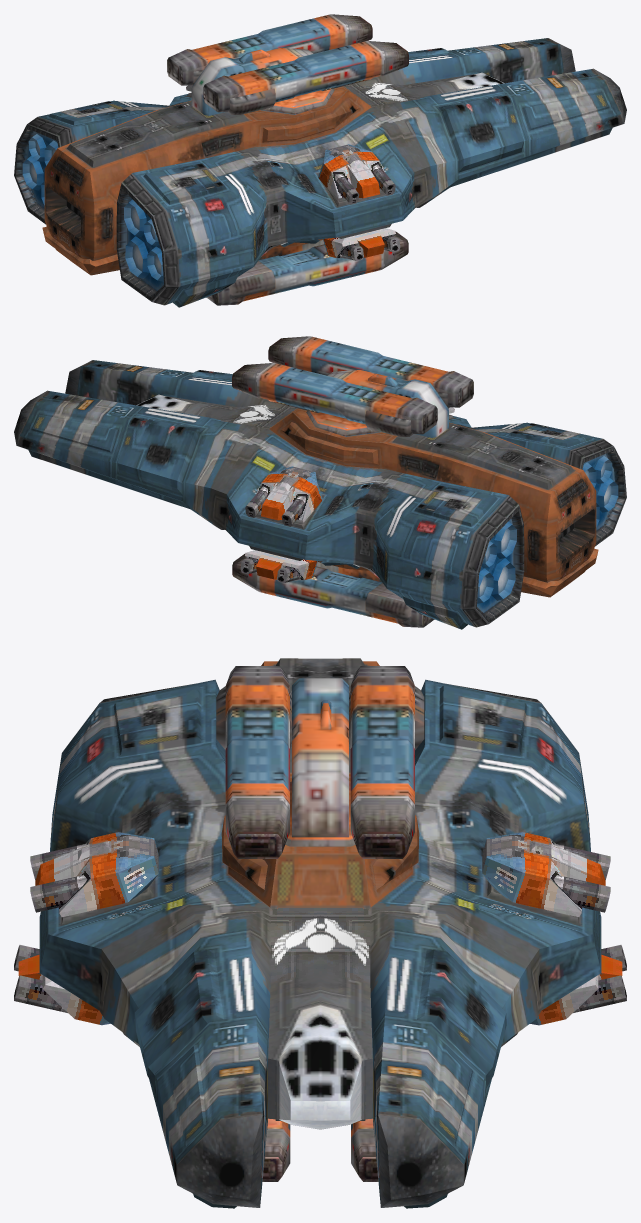
File: Eriax_Procyon_Frigate.FBX
3 renders of one model, top to bottom at view 1: azimuth 30°, elevation 25°; view 2: azimuth 150°, elevation 25°; view 3: azimuth 270°, elevation 25°, orthographic. The views are drawn at different scales.
Parts seen in each view (by area): view 1: group1, group16, group12, group14, group11, group15, group2, group19, group13, group17; view 2: group1, group16, group12, group14, group11, group115, group2, group112, group13, group117; view 3: group1, group16, group12, group11, group2, group115, group15, group14, group112, group19, group116, group18 (+2 smaller).
Part boxes in pixels (x1=…): group1: x1=14, y1=38, x2=626, y2=305; group16: x1=22, y1=48, x2=612, y2=307; group12: x1=167, y1=14, x2=408, y2=114; group14: x1=206, y1=231, x2=408, y2=305; group11: x1=191, y1=48, x2=334, y2=115; group15: x1=318, y1=144, x2=384, y2=200; group2: x1=343, y1=82, x2=422, y2=106; group19: x1=323, y1=228, x2=395, y2=258; group13: x1=259, y1=240, x2=324, y2=259; group17: x1=335, y1=174, x2=359, y2=204; group1: x1=14, y1=360, x2=626, y2=627; group16: x1=28, y1=370, x2=618, y2=629; group12: x1=232, y1=336, x2=473, y2=436; group14: x1=232, y1=554, x2=434, y2=627; group11: x1=306, y1=370, x2=448, y2=437; group115: x1=256, y1=466, x2=322, y2=522; group2: x1=218, y1=404, x2=297, y2=428; group112: x1=245, y1=550, x2=317, y2=580; group13: x1=316, y1=562, x2=381, y2=582; group117: x1=281, y1=496, x2=305, y2=526; group1: x1=39, y1=661, x2=601, y2=1207; group16: x1=61, y1=658, x2=579, y2=1208; group12: x1=216, y1=666, x2=424, y2=858; group11: x1=285, y1=678, x2=355, y2=846; group2: x1=270, y1=907, x2=370, y2=981; group115: x1=482, y1=832, x2=605, y2=916; group15: x1=35, y1=832, x2=158, y2=917; group14: x1=262, y1=1118, x2=378, y2=1181; group112: x1=530, y1=954, x2=622, y2=1025; group19: x1=18, y1=954, x2=110, y2=1025; group116: x1=553, y1=875, x2=610, y2=912; group18: x1=30, y1=875, x2=87, y2=912.
Size of the model in its own units: 86.04 by 34.94 by 49.87.
Materials: 13 (13 with a texture image).
